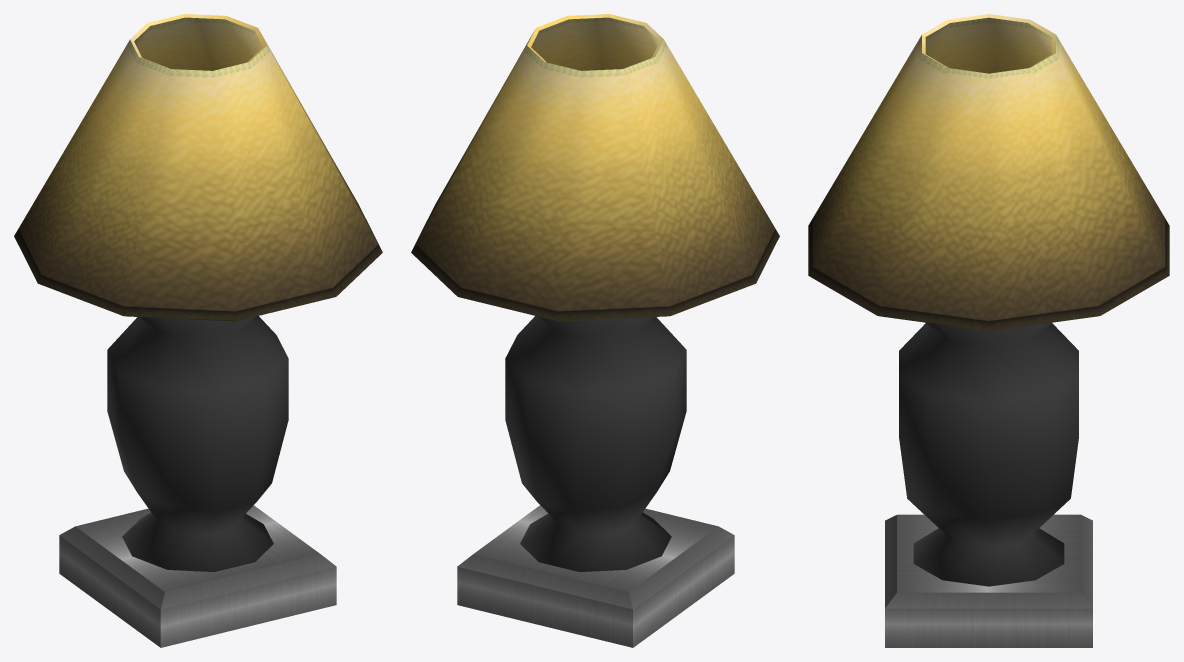
The model's file is Classic_Lamp_C.FBX.
The picture shows the model from 3 angles, left to right: view 1: azimuth 30°, elevation 25°; view 2: azimuth 150°, elevation 25°; view 3: azimuth 270°, elevation 25°; orthographic projection. The views are drawn at different scales.
Parts seen in each view (by area): view 1: Lamp; view 2: Lamp; view 3: Lamp.
Part boxes in pixels (box(x1,y1,x2,y2)): Lamp: box(14, 14, 382, 647); Lamp: box(411, 14, 779, 647); Lamp: box(808, 14, 1169, 647).
Size of the model in its own units: 82.2 by 134 by 78.18.
